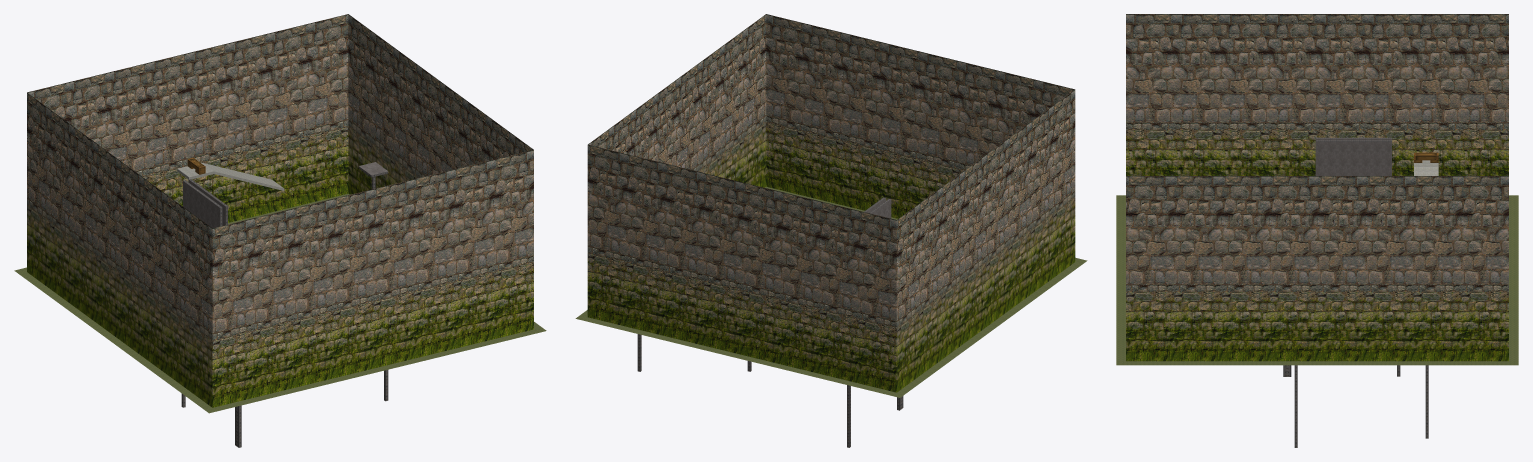
The model's file is Map1.obj.
The picture shows the model from 3 angles, left to right: view 1: azimuth 30°, elevation 25°; view 2: azimuth 150°, elevation 25°; view 3: azimuth 270°, elevation 25°; orthographic projection. The views are drawn at different scales.
Size of the model in its own units: 171 by 145 by 171.
Materials: 10 (10 with a texture image).
